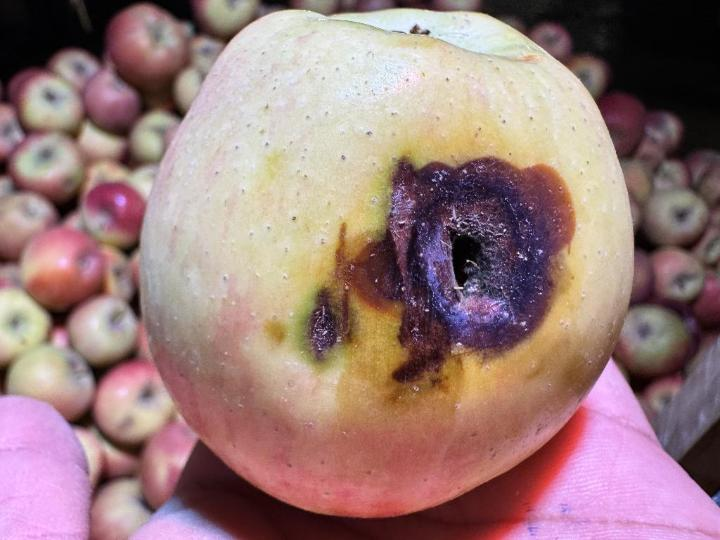apple: (140, 9, 633, 517)
rot_mold_decay: (308, 159, 574, 383)
